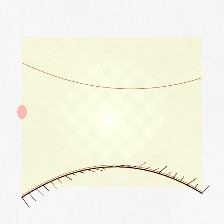foreign_body_visible: (122, 101, 140, 116)
